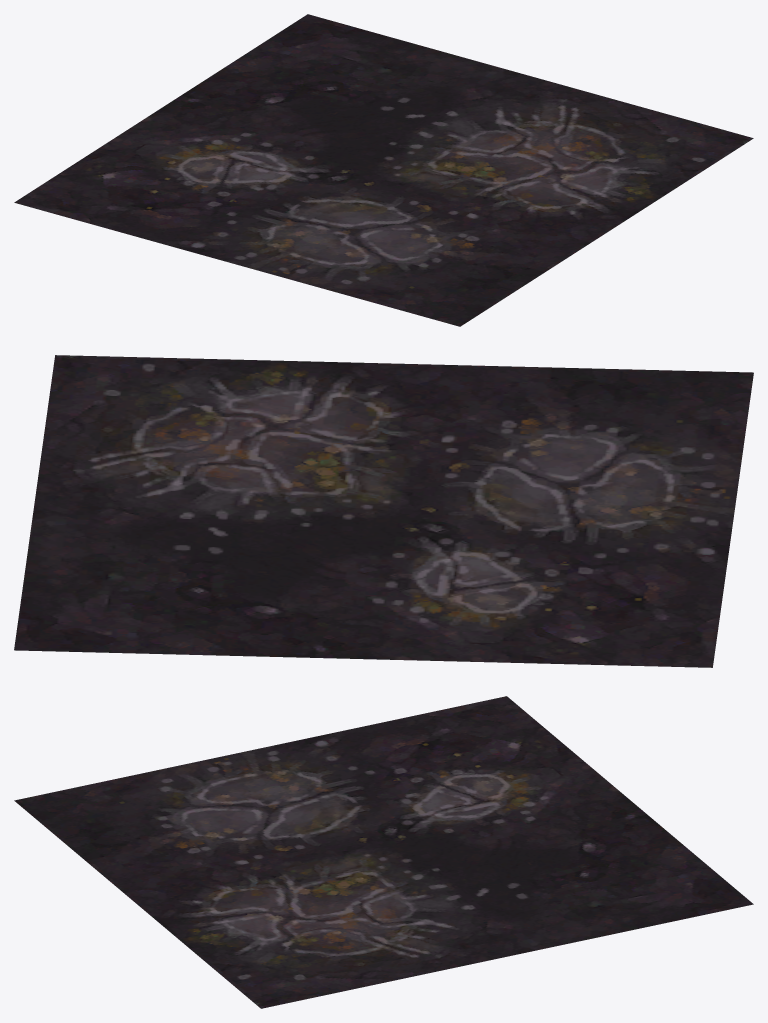
Rendered from cave_floor_mushrooms_18.fbx.
3 renders of one model, top to bottom at view 1: azimuth 30°, elevation 25°; view 2: azimuth 150°, elevation 25°; view 3: azimuth 270°, elevation 25°, orthographic. The views are drawn at different scales.
Parts seen in each view (by area): view 1: cave_tileset/Floormushrooms_03_mat; view 2: cave_tileset/Floormushrooms_03_mat; view 3: cave_tileset/Floormushrooms_03_mat.
Part boxes in pixels (bbox=[...]): cave_tileset/Floormushrooms_03_mat: bbox=[14, 14, 753, 326]; cave_tileset/Floormushrooms_03_mat: bbox=[14, 355, 753, 667]; cave_tileset/Floormushrooms_03_mat: bbox=[14, 696, 753, 1008].
Size of the model in its own units: 5.52 by 0 by 5.52.
